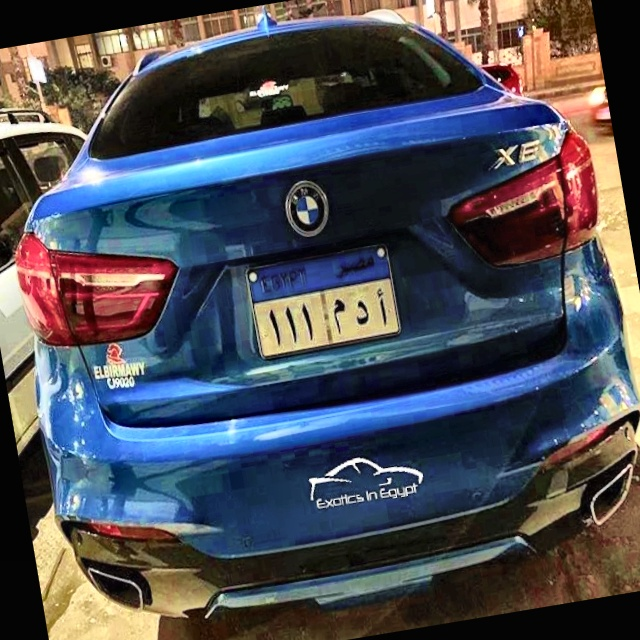License Plate: (240, 238, 407, 366)
